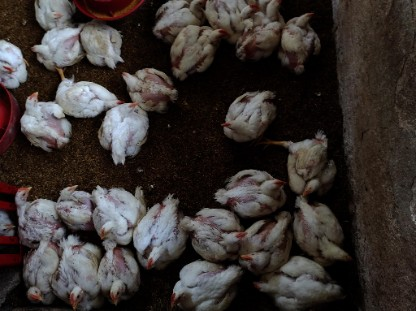Pollos: (258, 265, 353, 310), (134, 196, 188, 273), (49, 237, 104, 311), (165, 261, 246, 311), (89, 179, 145, 245), (165, 26, 229, 83), (16, 91, 76, 150), (236, 1, 290, 65), (98, 245, 150, 310), (217, 168, 286, 215), (182, 206, 244, 258), (244, 209, 293, 274), (11, 183, 64, 243), (294, 202, 350, 258), (219, 91, 279, 142), (56, 73, 122, 118), (290, 138, 342, 194), (100, 106, 149, 165), (282, 12, 328, 74), (30, 23, 85, 73), (118, 67, 177, 112), (23, 233, 53, 308), (84, 14, 126, 67), (57, 182, 94, 234), (150, 0, 204, 34), (0, 34, 29, 93), (32, 0, 76, 33), (0, 211, 22, 241), (231, 0, 258, 21)
